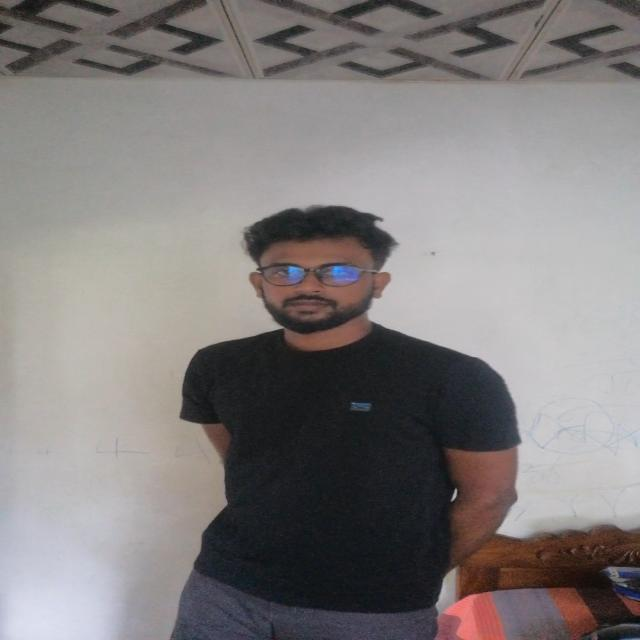Person: (168, 206, 524, 640)
